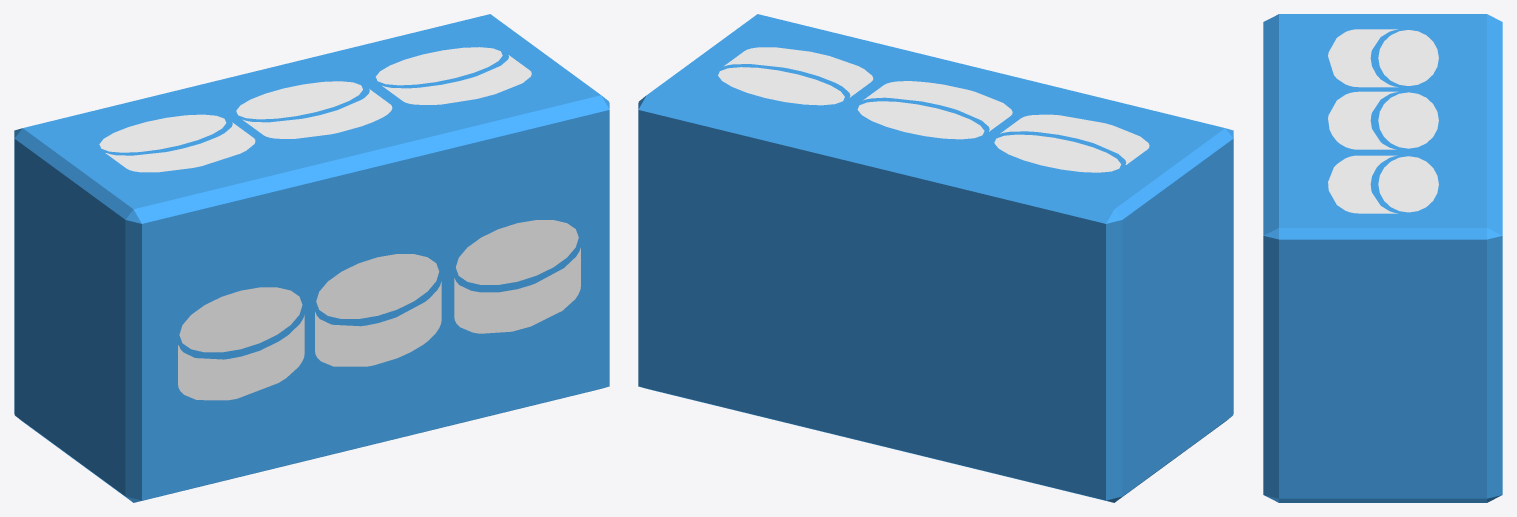
Rendered from Storage.obj.
3 renders of one model, left to right at view 1: azimuth 30°, elevation 25°; view 2: azimuth 150°, elevation 25°; view 3: azimuth 270°, elevation 25°, orthographic. The views are drawn at different scales.
Visible parts, largest first — view 1: Storage; view 2: Storage; view 3: Storage.
Part boxes in pixels (x1=…): Storage: x1=14, y1=14, x2=609, y2=502; Storage: x1=638, y1=14, x2=1233, y2=502; Storage: x1=1263, y1=14, x2=1502, y2=502.
Bounding box in the file's own units: 0.9998 × 0.5817 × 0.4588.
